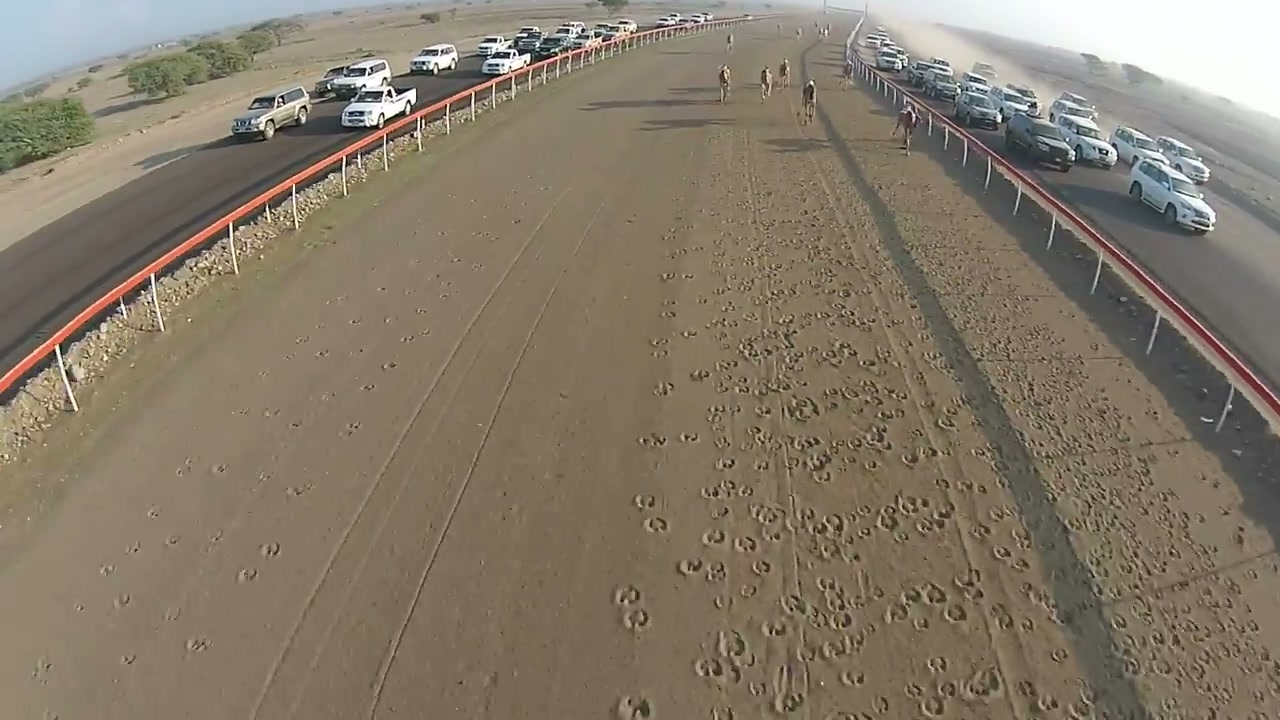animal_foot_print: (671, 183, 986, 719), (770, 663, 806, 714), (613, 585, 650, 633), (961, 667, 1003, 698), (716, 630, 753, 664), (694, 657, 740, 684), (616, 696, 653, 719), (622, 607, 650, 632), (921, 582, 947, 605), (32, 656, 53, 684), (919, 695, 945, 717), (828, 611, 855, 631), (615, 585, 640, 606), (936, 679, 959, 701), (760, 619, 788, 637), (943, 603, 968, 623), (702, 528, 727, 547), (701, 484, 730, 500), (704, 562, 726, 583), (638, 432, 667, 447), (185, 636, 209, 654), (286, 482, 314, 497), (839, 671, 865, 687), (643, 517, 668, 533), (734, 535, 757, 552), (632, 494, 656, 510), (926, 656, 948, 673), (935, 414, 956, 431), (710, 706, 737, 719), (751, 559, 771, 576), (260, 542, 281, 558), (709, 505, 731, 519), (237, 568, 257, 583), (113, 593, 131, 609), (341, 421, 359, 436), (162, 607, 181, 621), (715, 457, 735, 470), (739, 584, 757, 598), (653, 383, 674, 395), (690, 369, 710, 381), (754, 458, 771, 472), (736, 484, 754, 497), (679, 432, 699, 443), (208, 530, 222, 545), (126, 542, 141, 554), (99, 564, 114, 576), (651, 348, 669, 358), (165, 534, 180, 546), (650, 337, 668, 347), (120, 653, 135, 665), (211, 463, 227, 474), (681, 328, 697, 338), (659, 272, 676, 281), (360, 382, 376, 391), (660, 309, 676, 318), (147, 506, 159, 518), (73, 602, 86, 612), (662, 299, 677, 306), (681, 272, 694, 278)
